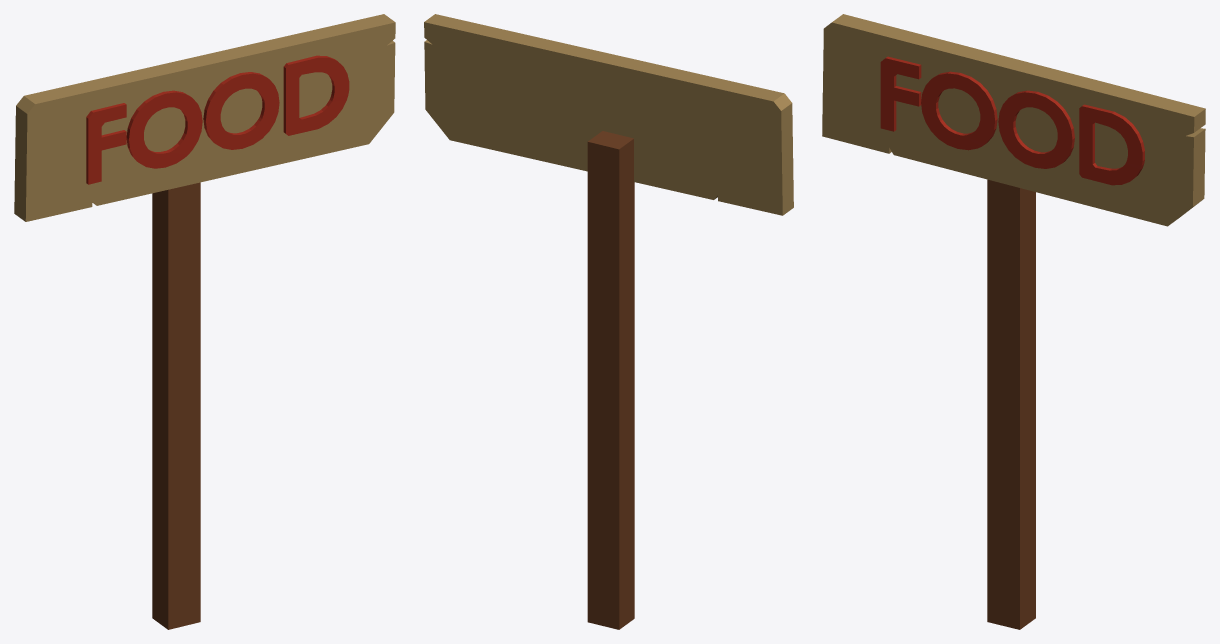
File: Banner_7.fbx
The picture shows the model from 3 angles, left to right: view 1: azimuth 30°, elevation 25°; view 2: azimuth 150°, elevation 25°; view 3: azimuth 330°, elevation 25°; orthographic projection. The views are drawn at different scales.
Parts seen in each view (by area): view 1: Banner_7; view 2: Banner_7; view 3: Banner_7.
Boxes of the visible parts, x1,y1,x2,y2 form: Banner_7: (14, 14, 395, 629); Banner_7: (424, 14, 793, 629); Banner_7: (822, 14, 1205, 629).
Size of the model in its own units: 106 by 156 by 14.65.
